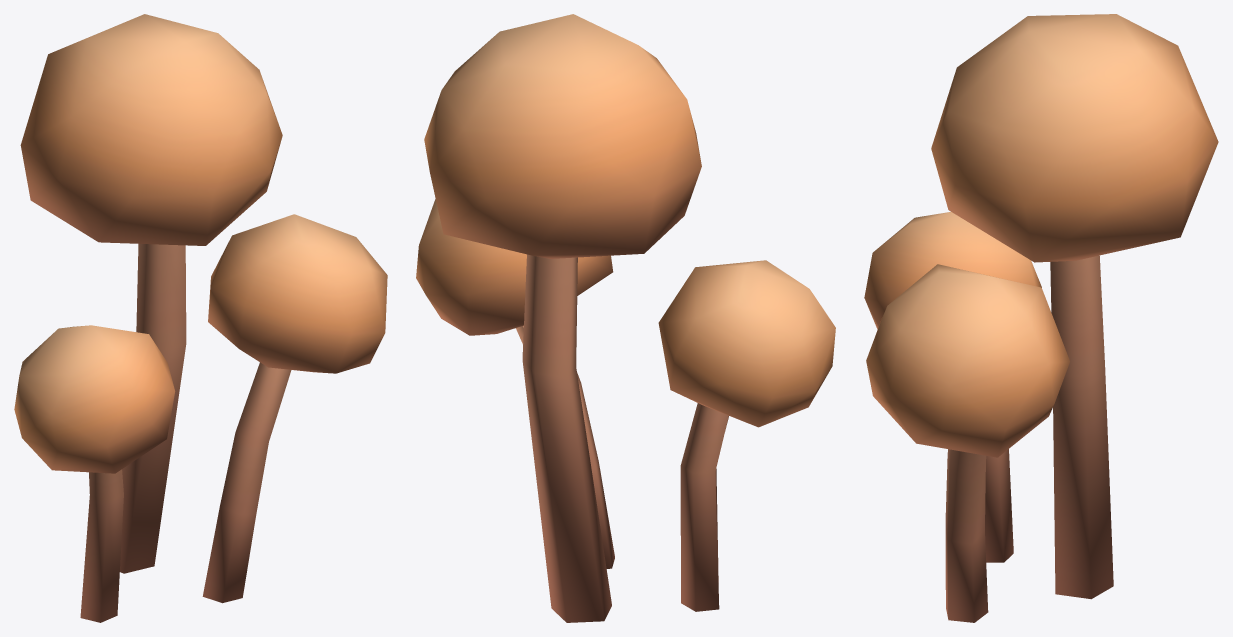
Rendered from mushroom_sphere_3.obj.
The picture shows the model from 3 angles, left to right: view 1: azimuth 30°, elevation 25°; view 2: azimuth 150°, elevation 25°; view 3: azimuth 270°, elevation 25°; orthographic projection. The views are drawn at different scales.
Visible parts, largest first — view 1: mushroom_sphere_3; view 2: mushroom_sphere_3; view 3: mushroom_sphere_3.
Part boxes in pixels (left/top/right/bottom): mushroom_sphere_3: left=14, top=14, right=387, bottom=622; mushroom_sphere_3: left=416, top=14, right=835, bottom=622; mushroom_sphere_3: left=864, top=14, right=1218, bottom=622.
Bounding box in the file's own units: 0.3974 × 0.5644 × 0.3128.
